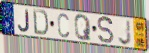C: (57, 12, 70, 39)
D: (32, 8, 50, 37)
J: (118, 19, 133, 47), (17, 9, 31, 34)
Q: (73, 13, 93, 42)
S: (97, 16, 115, 46)
